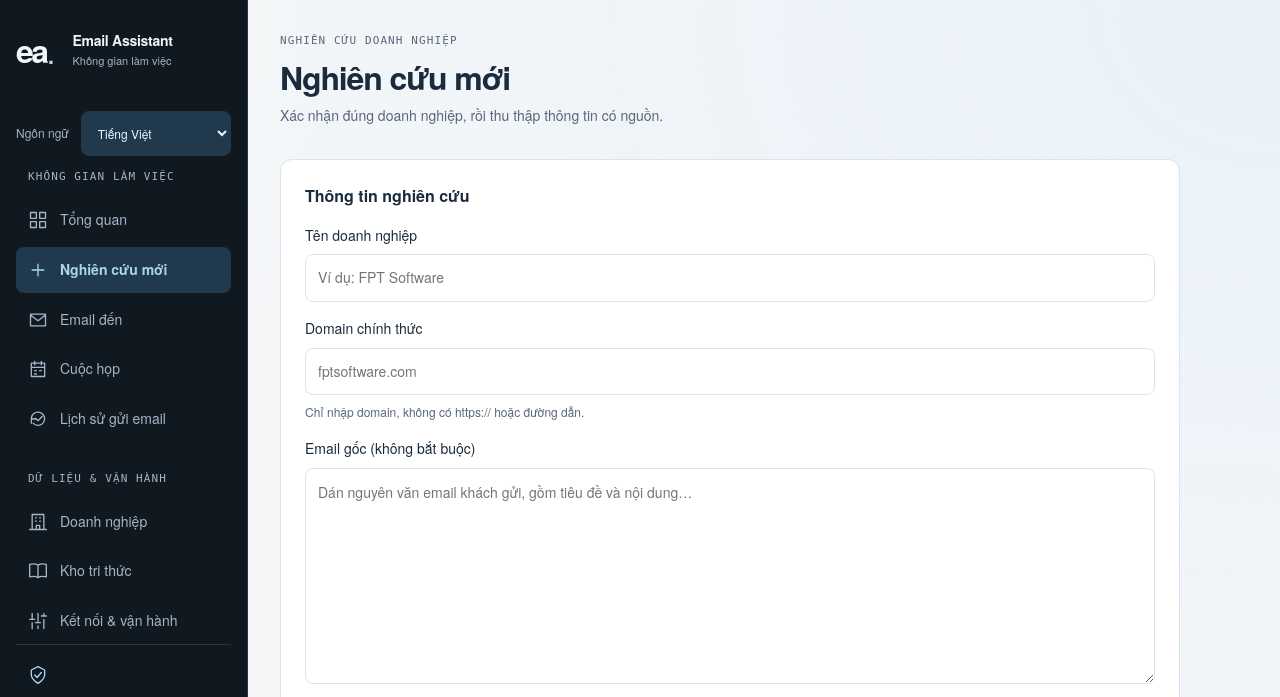
Test case: navigation menu keyboard behavior › opens the deferred knowledge route from the workspace navigation
Click the link "Kho tri thức": coordinates (80, 571) [28,560,132,581]
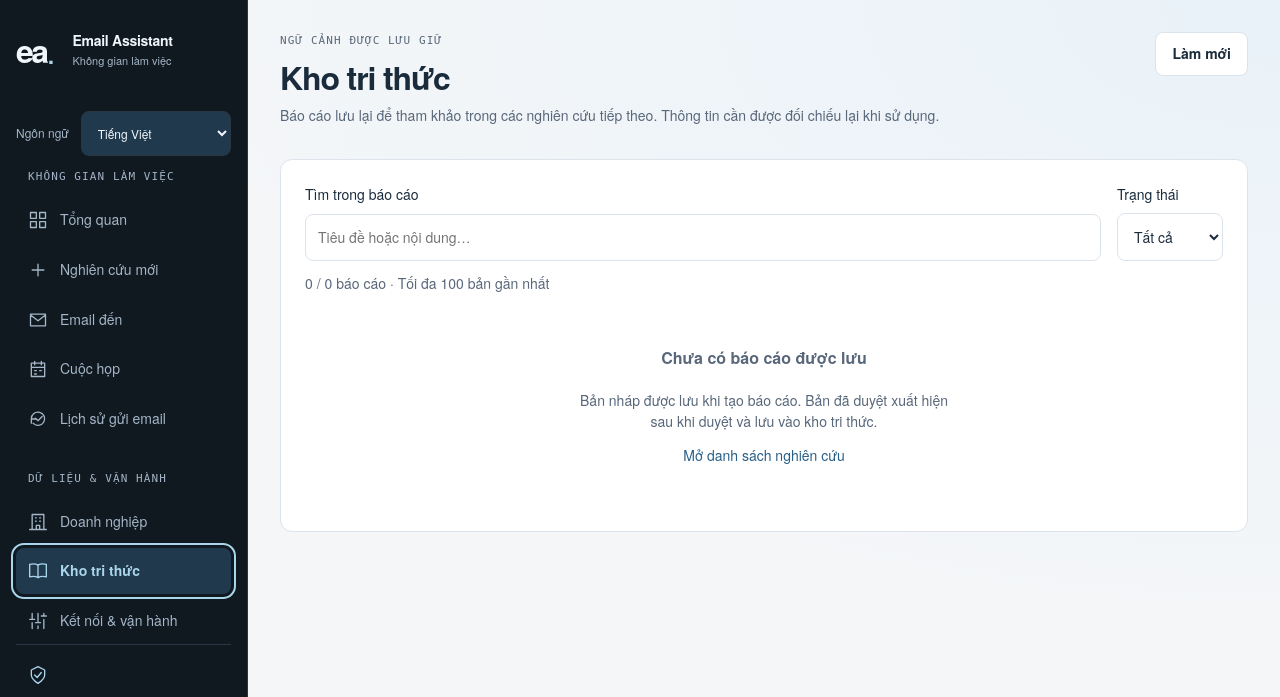
expect the heading "Chưa có báo cáo được lưu" is shown: met, box [661,346,867,369]
